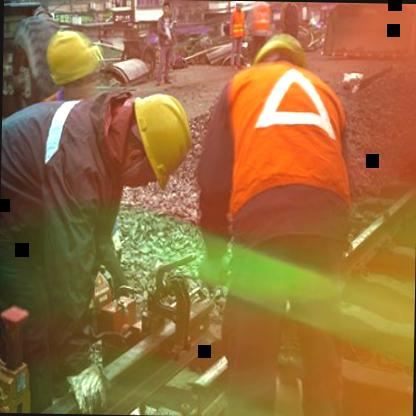helmet: (112, 83, 201, 192), (40, 27, 108, 95), (254, 31, 304, 78), (233, 1, 245, 16)
